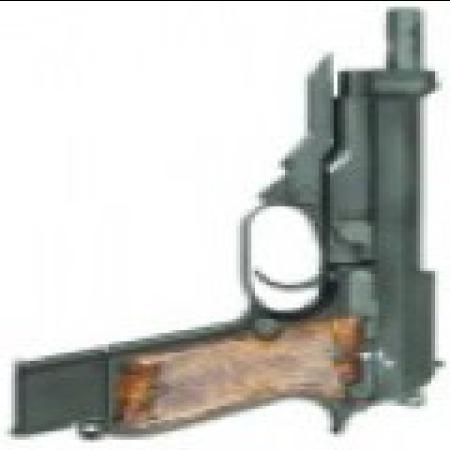Pistol: (8, 3, 446, 436)
